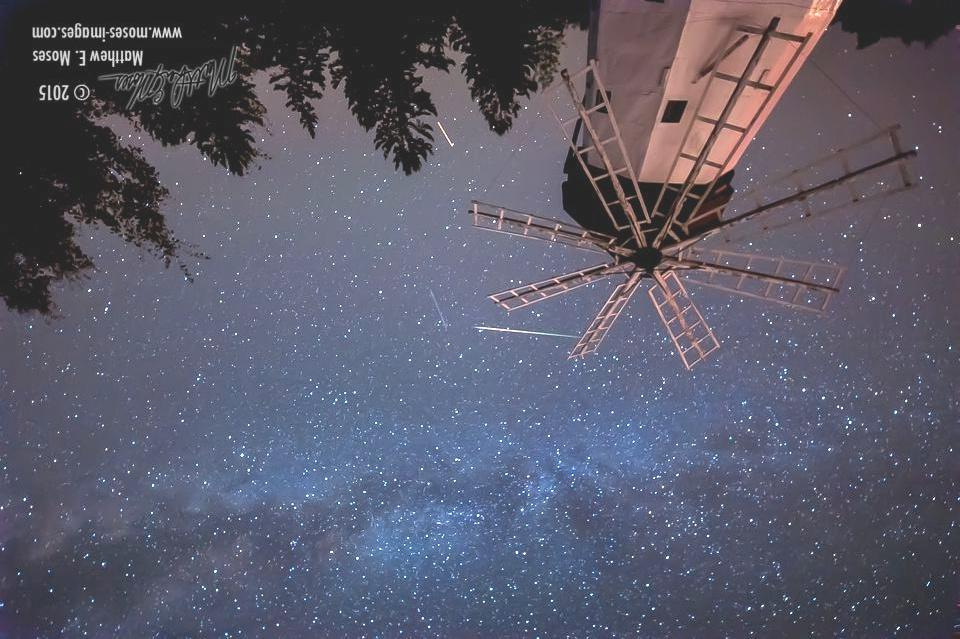meteorite: (421, 95, 473, 168), (447, 322, 587, 341), (418, 283, 452, 333)
